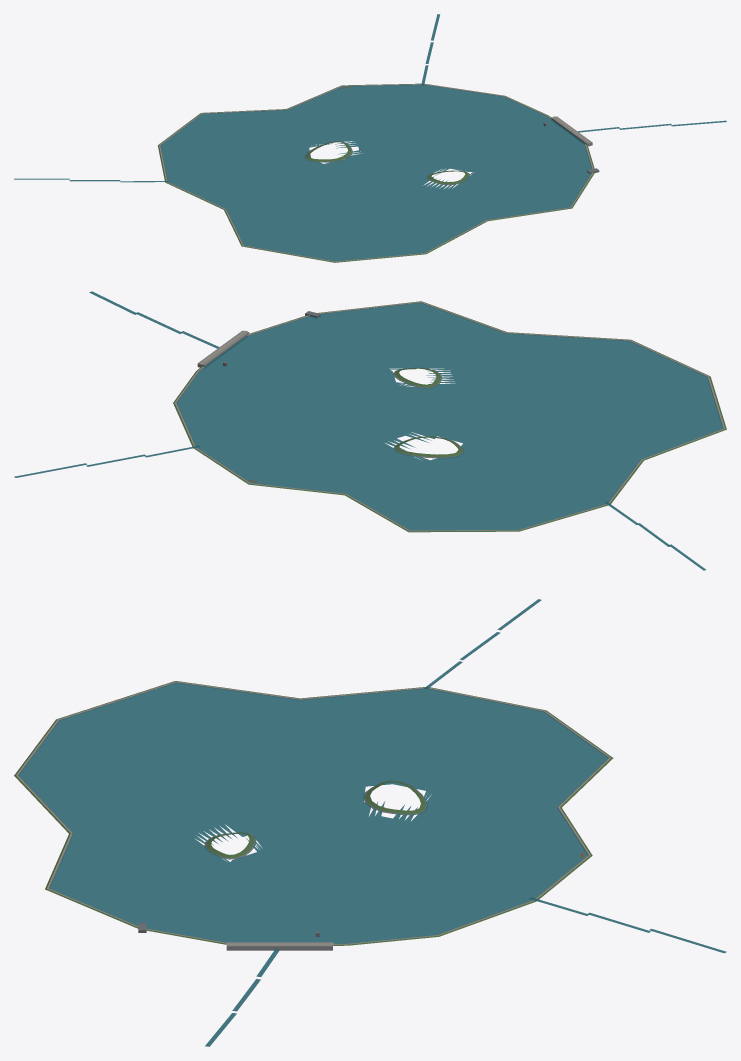
The model's file is water_ho_phuc_tho_lam_ha.glb.
3 views of the same model, one above another, from view 1: azimuth 30°, elevation 25°; view 2: azimuth 150°, elevation 25°; view 3: azimuth 270°, elevation 25° (orthographic). The views are drawn at different scales.
Parts seen in each view (by area): view 1: water_surface_water_ho_phuc_tho_lam_ha, shoreline_terrain_transition_verge_water_ho_phuc_tho_lam_ha, lakeside_promenade_walkway_water_ho_phuc_tho_lam_ha, embankment_stone_coping_water_ho_phuc_tho_lam_ha; view 2: water_surface_water_ho_phuc_tho_lam_ha, shoreline_terrain_transition_verge_water_ho_phuc_tho_lam_ha, lakeside_promenade_walkway_water_ho_phuc_tho_lam_ha, embankment_stone_coping_water_ho_phuc_tho_lam_ha; view 3: water_surface_water_ho_phuc_tho_lam_ha, shoreline_terrain_transition_verge_water_ho_phuc_tho_lam_ha, lakeside_promenade_walkway_water_ho_phuc_tho_lam_ha, embankment_stone_coping_water_ho_phuc_tho_lam_ha, phuc_tho_main_earthfill_irrigation_dam.
Part boxes in pixels (left/top/right/bottom): water_surface_water_ho_phuc_tho_lam_ha: left=160, top=84, right=591, bottom=261; shoreline_terrain_transition_verge_water_ho_phuc_tho_lam_ha: left=158, top=83, right=594, bottom=262; lakeside_promenade_walkway_water_ho_phuc_tho_lam_ha: left=159, top=84, right=593, bottom=261; embankment_stone_coping_water_ho_phuc_tho_lam_ha: left=160, top=84, right=592, bottom=261; water_surface_water_ho_phuc_tho_lam_ha: left=177, top=302, right=722, bottom=530; shoreline_terrain_transition_verge_water_ho_phuc_tho_lam_ha: left=173, top=301, right=726, bottom=532; lakeside_promenade_walkway_water_ho_phuc_tho_lam_ha: left=174, top=301, right=724, bottom=531; embankment_stone_coping_water_ho_phuc_tho_lam_ha: left=176, top=302, right=723, bottom=530; water_surface_water_ho_phuc_tho_lam_ha: left=18, top=682, right=608, bottom=943; shoreline_terrain_transition_verge_water_ho_phuc_tho_lam_ha: left=14, top=681, right=613, bottom=945; lakeside_promenade_walkway_water_ho_phuc_tho_lam_ha: left=16, top=681, right=610, bottom=944; embankment_stone_coping_water_ho_phuc_tho_lam_ha: left=18, top=682, right=609, bottom=944; phuc_tho_main_earthfill_irrigation_dam: left=226, top=942, right=332, bottom=950.
Bounding box in the file's own units: 3015 × 36 × 2077.
